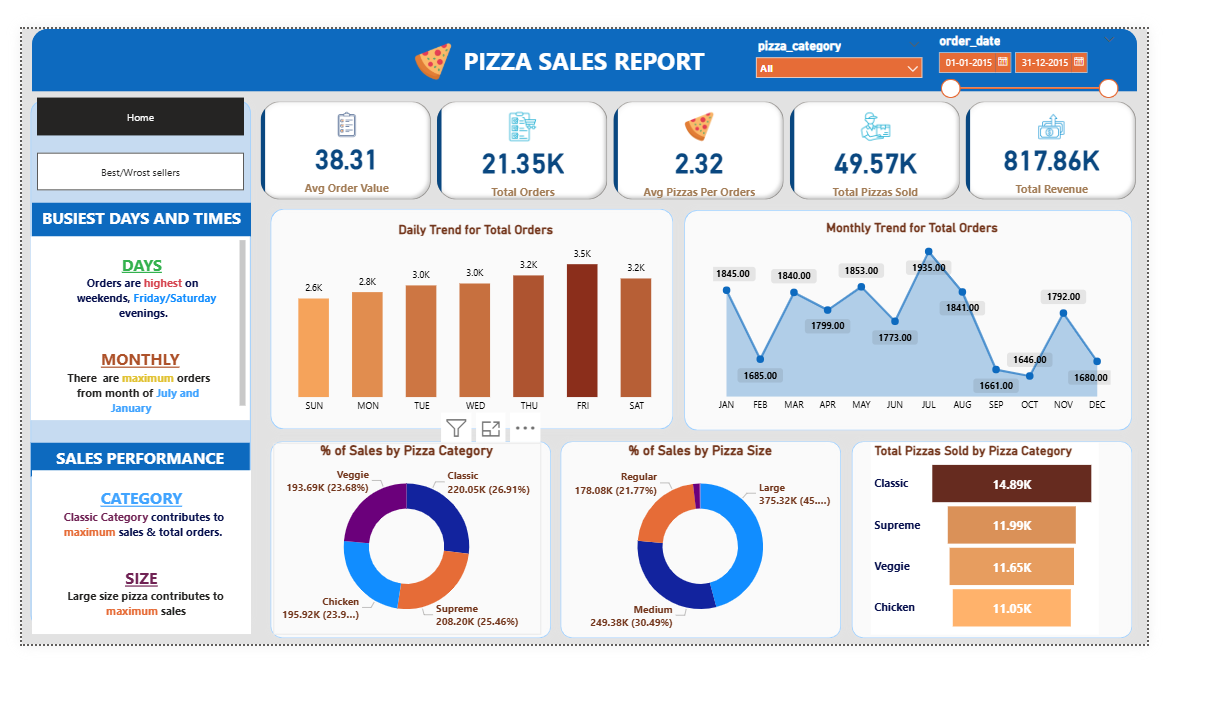

This screenshot's page, from the dashboard's own definition file:
{"tool":"powerbi","page":{"name":"Home","canvas":[1500,820],"ordinal":0},"visuals":[{"type":"cardVisual","fields":{"Data":["pizza_sales.Avg Order Value","pizza_sales.Total Orders","pizza_sales.Avg Pizzas Per Orders","pizza_sales.Total Pizzas Sold","pizza_sales.Total Revenue"]},"box":[314.1,91.9,1178.3,141.7],"z":0},{"type":"shape","box":[13.3,0,1473.3,83.3],"z":1000},{"type":"textbox","box":[550.5,14.2,398.7,58],"z":2000},{"type":"image","box":[511.8,12.9,72,60],"z":3000},{"type":"shape","box":[322.6,231.8,552.9,310],"z":4000},{"type":"columnChart","title":"Daily Trend for Total Orders","fields":{"Y":["pizza_sales.Total Orders"],"Category":["pizza_sales.Order Day"]},"box":[335.4,256,540,264.3],"z":5000},{"type":"shape","box":[875.4,233.2,612.9,310],"z":6000},{"type":"areaChart","title":"Monthly Trend for Total Orders","fields":{"Category":["pizza_sales.Order Month"],"Y":["pizza_sales.Total Orders"]},"box":[916.9,254.6,540,264.3],"z":7000},{"type":"shape","box":[322.6,541.8,390,278.6],"z":8000},{"type":"shape","box":[709.7,541.8,390,278.6],"z":9000},{"type":"shape","box":[1098.3,541.8,390,278.6],"z":10000},{"type":"donutChart","title":"% of Sales by Pizza Category","fields":{"Category":["pizza_sales.pizza_category"],"Y":["pizza_sales.Total Revenue"]},"box":[335.4,551.8,355.7,255.7],"z":11000},{"type":"donutChart","title":"% of Sales by Pizza Size","fields":{"Y":["pizza_sales.Total Revenue"],"Category":["pizza_sales.pizza_size"]},"box":[726.9,551.8,355.7,255.7],"z":12000},{"type":"funnel","title":"Total Pizzas Sold by Pizza Category","fields":{"Category":["pizza_sales.pizza_category"],"Y":["pizza_sales.Total Pizzas Sold"]},"box":[1131.1,551.8,304.3,255.7],"z":13000},{"type":"shape","box":[4,86.5,310,720],"z":14000},{"type":"textbox","box":[14,231.5,291.7,45],"z":15000},{"type":"textbox","box":[12.3,276.5,291.7,245],"z":15001},{"type":"textbox","box":[12.3,551.5,291.7,45],"z":15002},{"type":"textbox","box":[14,588.2,291.7,218.3],"z":15003},{"type":"slicer","fields":{"Values":["pizza_sales.order_date"]},"box":[1210,0,260,165],"z":15004},{"type":"slicer","fields":{"Values":["pizza_sales.pizza_category"]},"box":[968.3,6.7,241.7,65],"z":15005},{"type":"pageNavigator","box":[20,91.7,276.7,50],"z":15006},{"type":"pageNavigator","box":[20,165,276.7,50],"z":15007}]}

Visuals, with their boxes on the page's 1500x820 design canvas (x1, y1, x2, y2). These are canvas units, not pixel positions in the 1229x702 screenshot, which may show the page scaled, cropped or inside an application window:
cardVisual - pizza_sales.Avg Order Value x pizza_sales.Total Orders: rect(314, 92, 1492, 234)
shape: rect(13, 0, 1487, 83)
textbox: rect(550, 14, 949, 72)
image: rect(512, 13, 584, 73)
shape: rect(323, 232, 876, 542)
"Daily Trend for Total Orders" columnChart: rect(335, 256, 875, 520)
shape: rect(875, 233, 1488, 543)
"Monthly Trend for Total Orders" areaChart: rect(917, 255, 1457, 519)
shape: rect(323, 542, 713, 820)
shape: rect(710, 542, 1100, 820)
shape: rect(1098, 542, 1488, 820)
"% of Sales by Pizza Category" donutChart: rect(335, 552, 691, 808)
"% of Sales by Pizza Size" donutChart: rect(727, 552, 1083, 808)
"Total Pizzas Sold by Pizza Category" funnel: rect(1131, 552, 1435, 808)
shape: rect(4, 86, 314, 806)
textbox: rect(14, 232, 306, 276)
textbox: rect(12, 276, 304, 522)
textbox: rect(12, 552, 304, 596)
textbox: rect(14, 588, 306, 806)
slicer - pizza_sales.order_date: rect(1210, 0, 1470, 165)
slicer - pizza_sales.pizza_category: rect(968, 7, 1210, 72)
pageNavigator: rect(20, 92, 297, 142)
pageNavigator: rect(20, 165, 297, 215)
